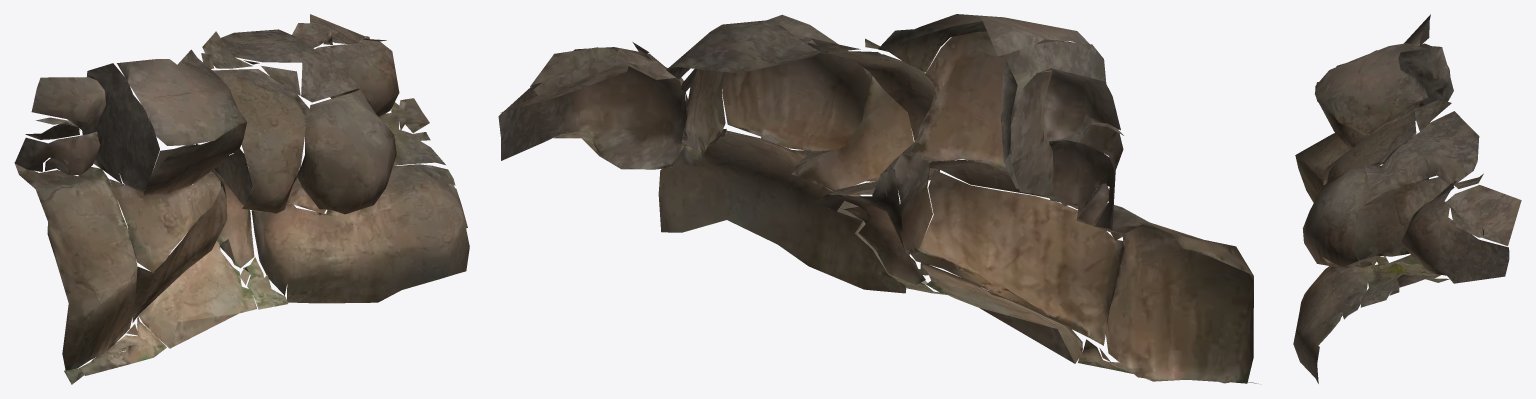
File: ph_namaqualand_cliff_01.glb
3 views of the same model, side by side, from view 1: azimuth 30°, elevation 25°; view 2: azimuth 150°, elevation 25°; view 3: azimuth 270°, elevation 25° (orthographic). The views are drawn at different scales.
Parts seen in each view (by area): view 1: drone_rock_01; view 2: drone_rock_01; view 3: drone_rock_01.
Boxes of the visible parts, left/top/right/bottom form: drone_rock_01: left=14, top=14, right=469, bottom=384; drone_rock_01: left=498, top=14, right=1258, bottom=383; drone_rock_01: left=1293, top=14, right=1521, bottom=383.
Size of the model in its own units: 8.27 by 4.93 by 4.42.
Materials: 1 (1 with a texture image).
